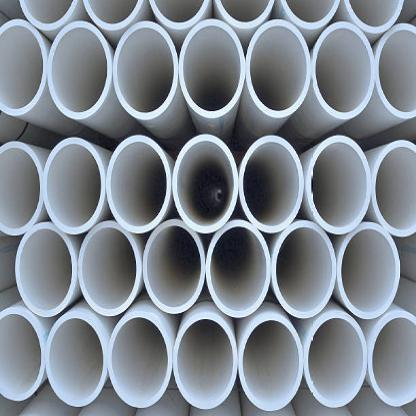pipe: (179, 18, 245, 118), (306, 136, 372, 234), (173, 134, 238, 233), (107, 134, 172, 233), (239, 134, 304, 233), (246, 19, 311, 118), (47, 21, 112, 120), (113, 21, 178, 120), (206, 220, 270, 318), (272, 220, 336, 318), (173, 312, 237, 409), (239, 315, 303, 412), (108, 312, 172, 408), (43, 137, 106, 234), (78, 221, 141, 318), (336, 223, 400, 318), (312, 22, 374, 120), (305, 312, 368, 408), (142, 220, 206, 314), (15, 221, 77, 318), (46, 313, 108, 407), (368, 310, 416, 408), (0, 19, 47, 116), (0, 307, 47, 402), (371, 138, 415, 238), (374, 22, 416, 121), (0, 142, 44, 236), (344, 0, 404, 35), (148, 0, 211, 31), (83, 0, 143, 31), (214, 0, 275, 30), (278, 0, 340, 29), (19, 1, 78, 30)
